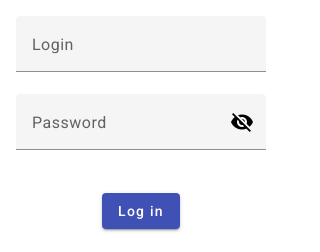
Test: Login Form › should display error for invalid credentials
This screenshot has width=320, height=252.
Type "invalid_username" into the field with test id "login-input" at (141, 52), box [32, 40, 250, 64]
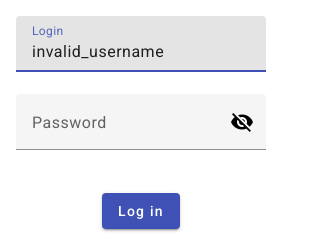
Type "invalid_password" into the password field with test id "password-input" at (123, 130), box [32, 118, 214, 142]
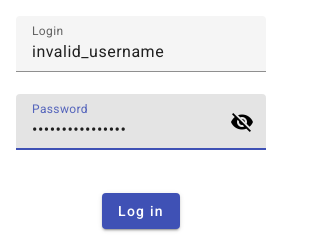
Click the button with test id "login-button" at (141, 211), box [102, 193, 180, 229]
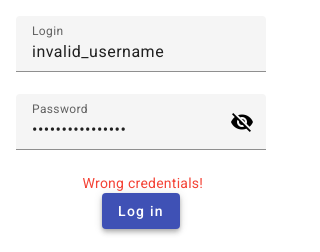
Now the text with test id "error" reads "Wrong credentials!", box [79, 175, 203, 191]
